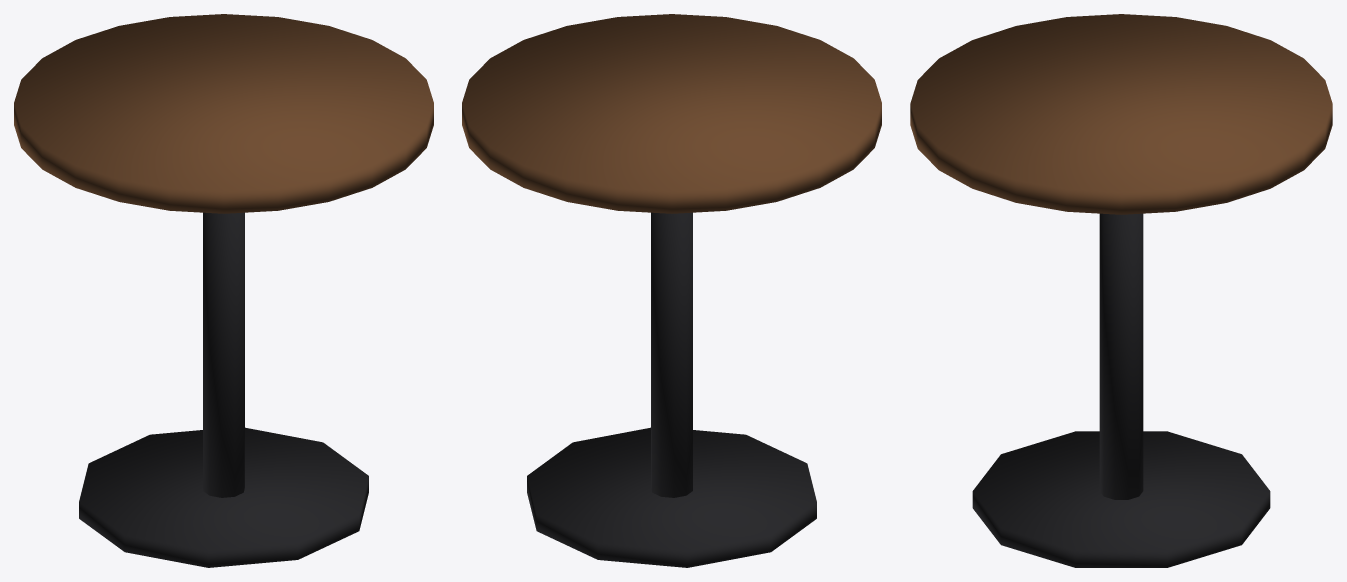
Rendered from bistrotisch.glb.
3 views of the same model, side by side, from view 1: azimuth 30°, elevation 25°; view 2: azimuth 150°, elevation 25°; view 3: azimuth 270°, elevation 25° (orthographic).
Visible parts, largest first — view 1: bistrotisch; view 2: bistrotisch; view 3: bistrotisch.
Part boxes in pixels (x1,y1,x2,y2): bistrotisch: (14,14,433,567); bistrotisch: (462,14,881,567); bistrotisch: (910,14,1332,567).
Size of the model in its own units: 0.68 by 0.72 by 0.68.
